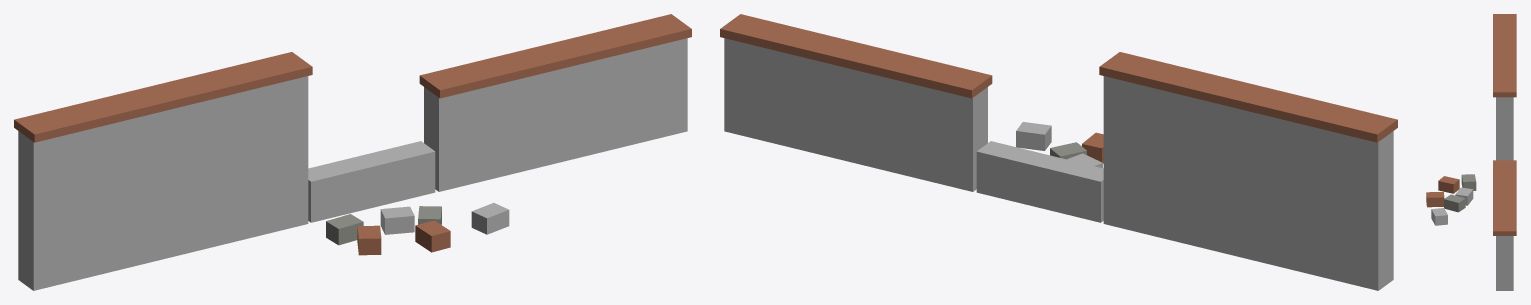
The model's file is SM_Tapia_v3_Roto_LOD1.fbx.
3 views of the same model, side by side, from view 1: azimuth 30°, elevation 25°; view 2: azimuth 150°, elevation 25°; view 3: azimuth 270°, elevation 25° (orthographic). The views are drawn at different scales.
Visible parts, largest first — view 1: SM_bloques.viveres_nules_v8_LOD1; view 2: SM_bloques.viveres_nules_v8_LOD1; view 3: SM_bloques.viveres_nules_v8_LOD1.
Boxes of the visible parts, bbox=[...] form: SM_bloques.viveres_nules_v8_LOD1: bbox=[14, 14, 691, 290]; SM_bloques.viveres_nules_v8_LOD1: bbox=[720, 14, 1397, 290]; SM_bloques.viveres_nules_v8_LOD1: bbox=[1426, 14, 1516, 290].
Bounding box in the file's own units: 10.05 × 2.32 × 2.06.
